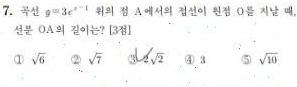choice: (127, 49, 140, 67)
not-choice: (12, 53, 26, 65), (240, 52, 252, 66), (69, 53, 82, 65), (183, 53, 195, 66)
